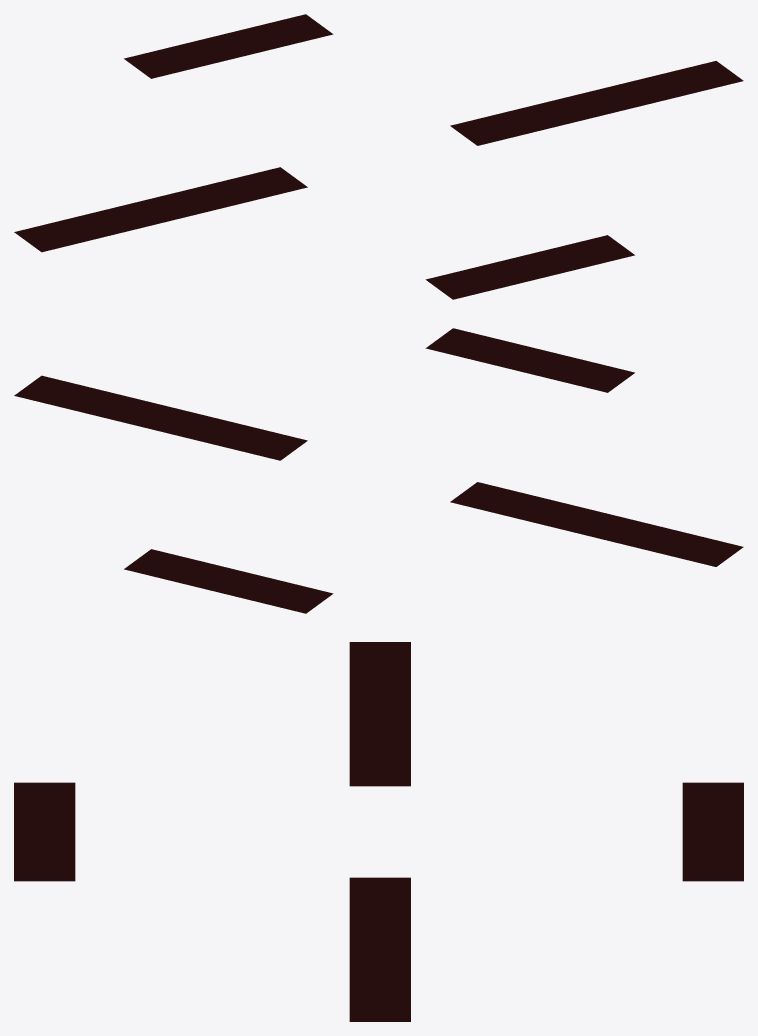
File: Carpets.fbx
3 renders of one model, top to bottom at view 1: azimuth 30°, elevation 25°; view 2: azimuth 150°, elevation 25°; view 3: azimuth 270°, elevation 25°, orthographic. The views are drawn at different scales.
Visible parts, largest first — view 1: CarpetLong1; view 2: CarpetLong1; view 3: CarpetLong1.
Part boxes in pixels (box(x1,y1,x2,y2)): CarpetLong1: box(14, 14, 743, 299); CarpetLong1: box(14, 328, 743, 613); CarpetLong1: box(14, 642, 743, 1021).
Size of the model in its own units: 31.81 by 1.55e-15 by 25.85.
